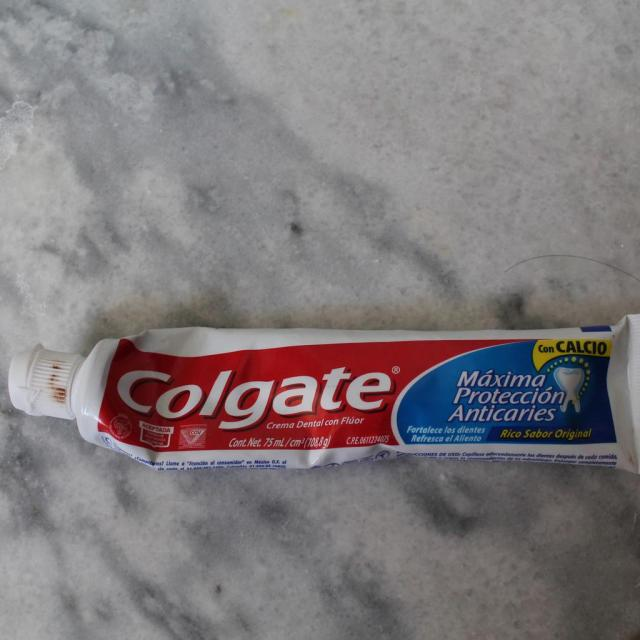Toothpaste: (9, 298, 640, 486)
